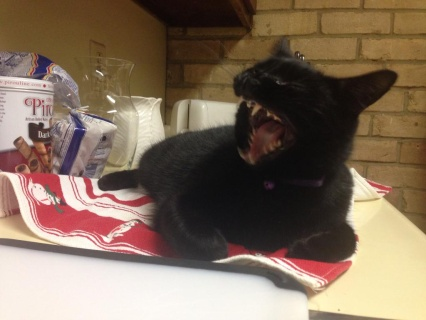Cat: (95, 33, 401, 264)
